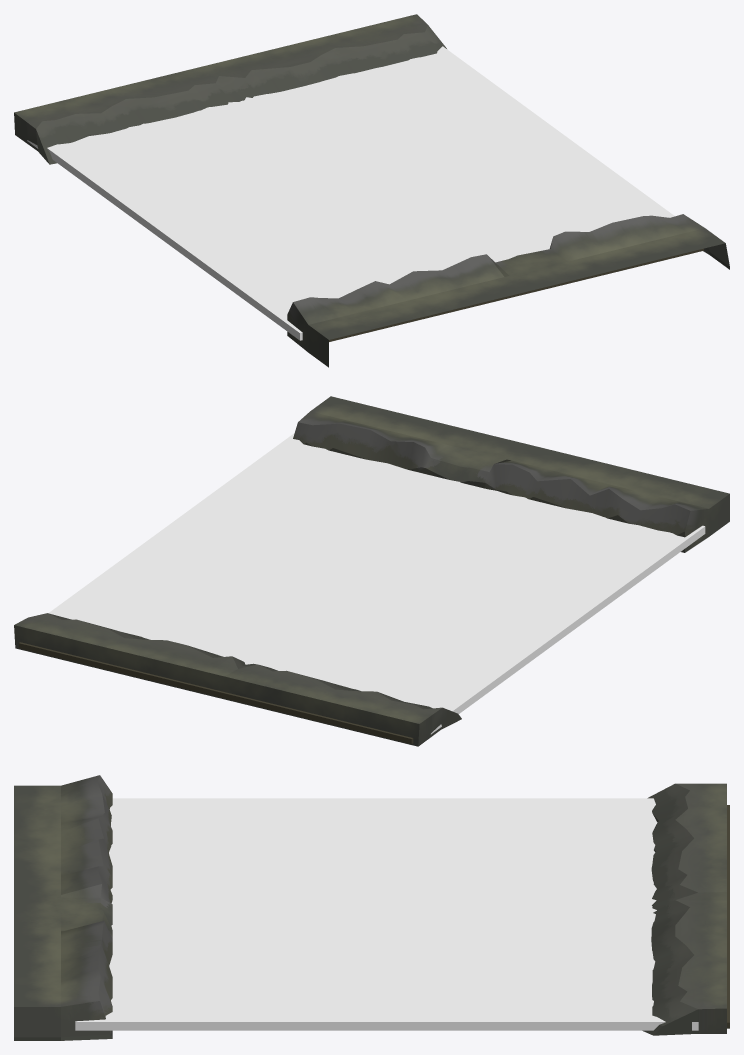
The model's file is AcidFloorHeights.fbx.
3 views of the same model, one above another, from view 1: azimuth 30°, elevation 25°; view 2: azimuth 150°, elevation 25°; view 3: azimuth 270°, elevation 25° (orthographic). The views are drawn at different scales.
Parts seen in each view (by area): view 1: PosionCube, RockBarrier, RockRamp, SpawnChunkRESIZED; view 2: PosionCube, RockBarrier, RockRamp, SpawnChunkRESIZED; view 3: PosionCube, RockBarrier, RockRamp, SpawnChunkRESIZED.
Boxes of the visible parts, x1,y1,x2,y2 form: PosionCube: (27, 46, 674, 340); RockBarrier: (287, 214, 729, 367); RockRamp: (14, 14, 446, 164); SpawnChunkRESIZED: (329, 248, 703, 341); PosionCube: (48, 433, 705, 734); RockBarrier: (293, 396, 729, 552); RockRamp: (14, 613, 461, 746); SpawnChunkRESIZED: (18, 642, 413, 744); PosionCube: (75, 798, 698, 1030); RockBarrier: (14, 775, 112, 1040); RockRamp: (642, 783, 726, 1035); SpawnChunkRESIZED: (727, 805, 729, 1028).
Size of the model in its own units: 9055 by 857 by 12029.
3 materials, 1 textured.
